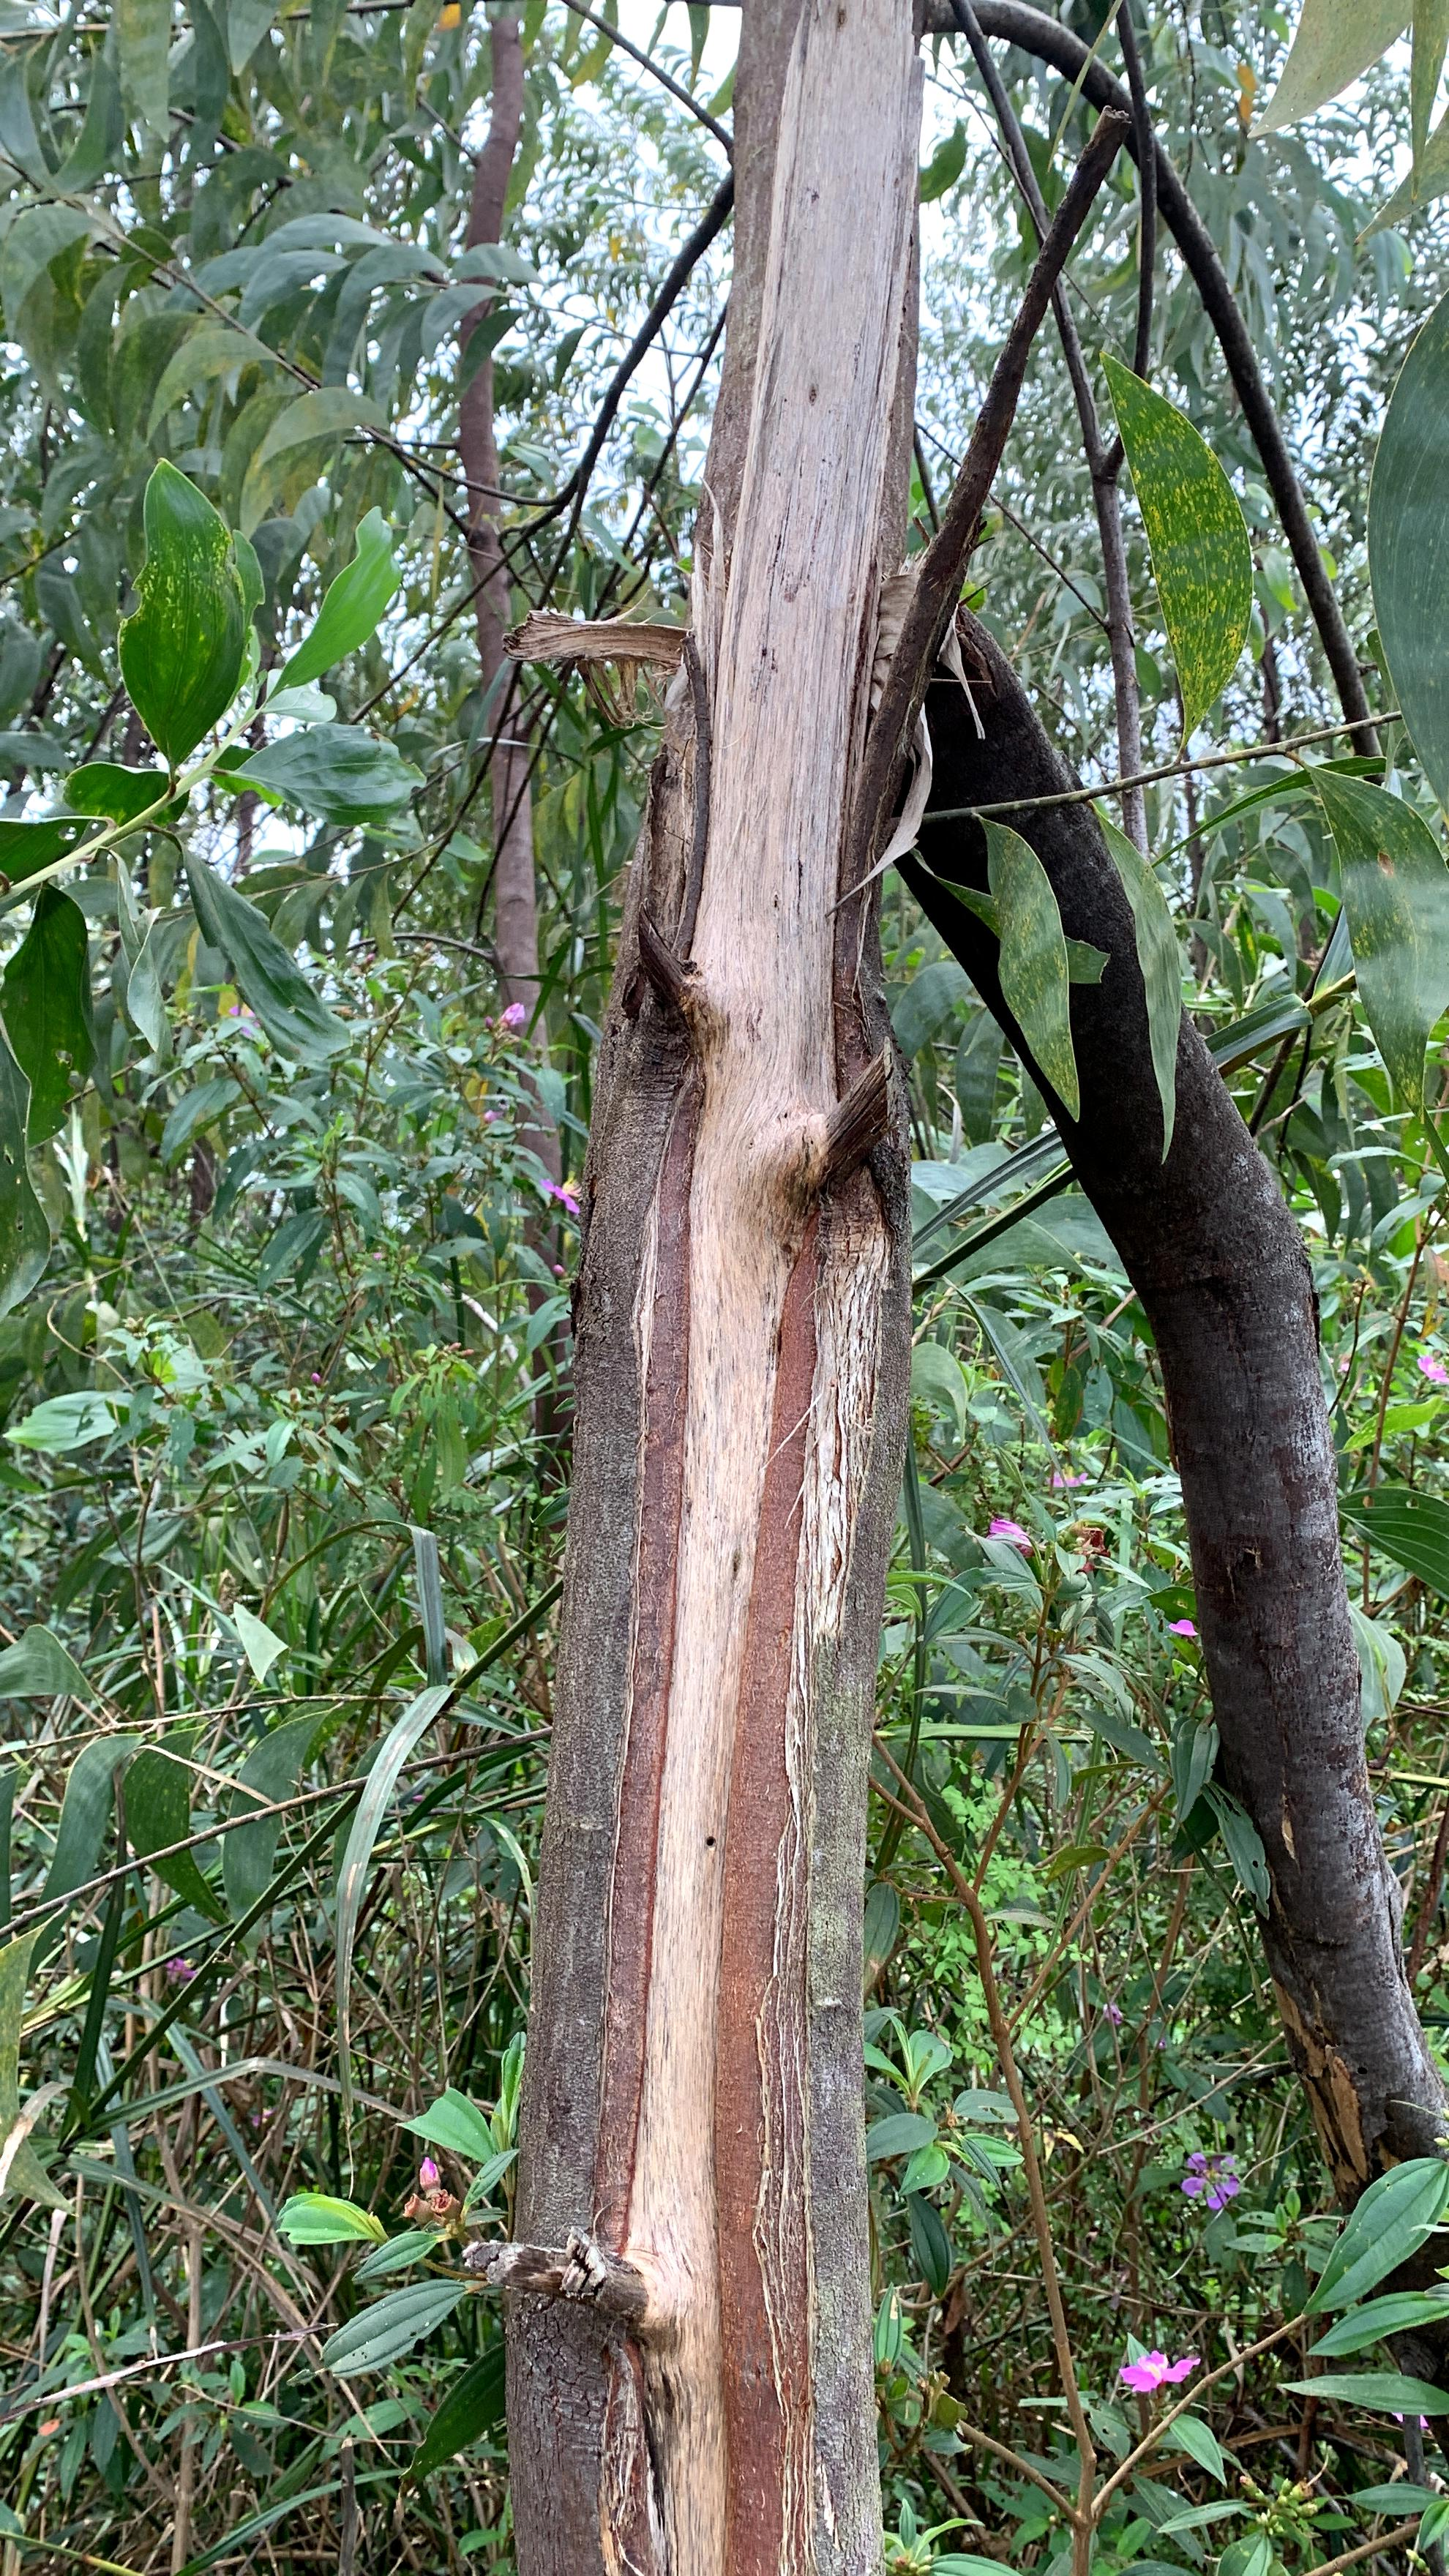Mammals Attack: (476, 545, 893, 2541)
